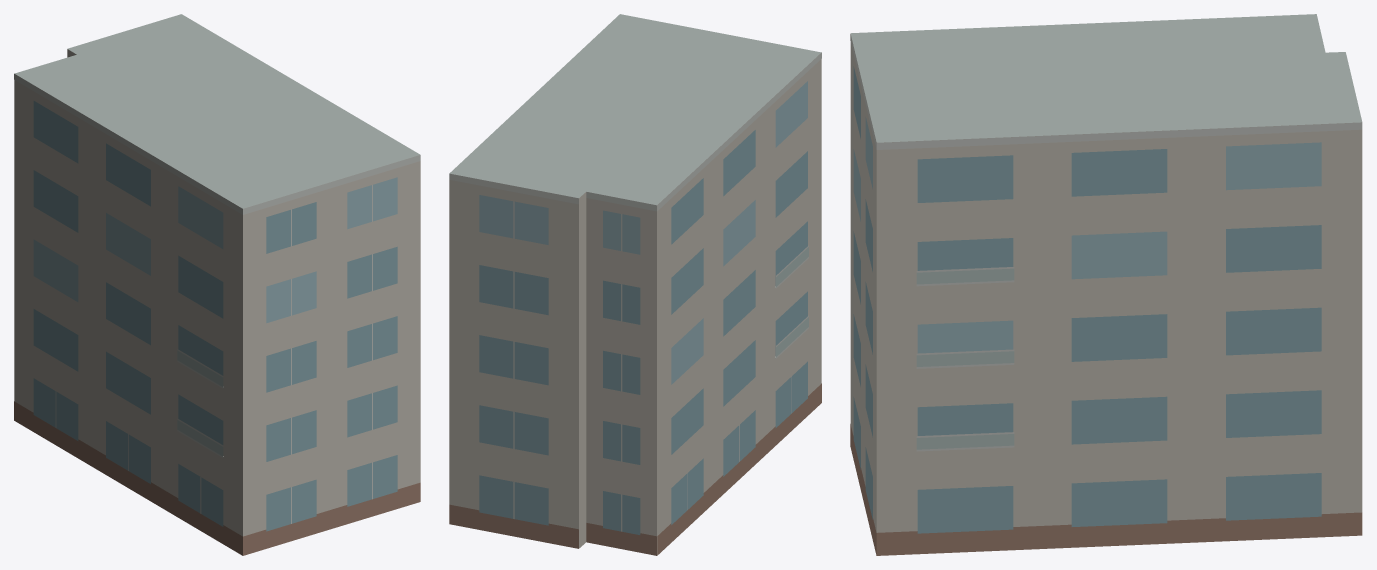
Rendered from survey-upis-32705509.glb.
3 views of the same model, side by side, from view 1: azimuth 30°, elevation 25°; view 2: azimuth 150°, elevation 25°; view 3: azimuth 270°, elevation 25° (orthographic). The views are drawn at different scales.
Visible parts, largest first — view 1: survey-upis-32705509.tmp; view 2: survey-upis-32705509.tmp; view 3: survey-upis-32705509.tmp.
Part boxes in pixels (x1,y1,x2,y2): survey-upis-32705509.tmp: [14, 14, 420, 555]; survey-upis-32705509.tmp: [449, 14, 821, 555]; survey-upis-32705509.tmp: [850, 14, 1362, 555].
Bounding box in the file's own units: 9.23 × 13.8 × 15.51.
